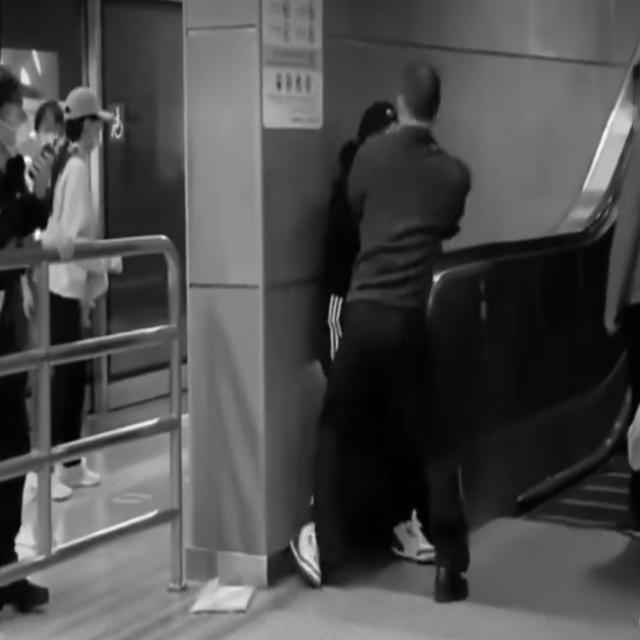fight: (326, 62, 484, 243)
nofight: (32, 83, 129, 506)
